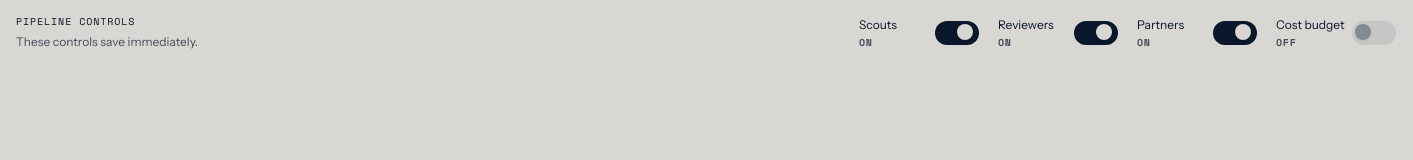
it: OperationsStrip › rolls back and releases a control when the request rejects
The width and height of the screenshot is (1413, 160).
Click the switch named "scouts" at [957, 33], box [935,11,979,55]
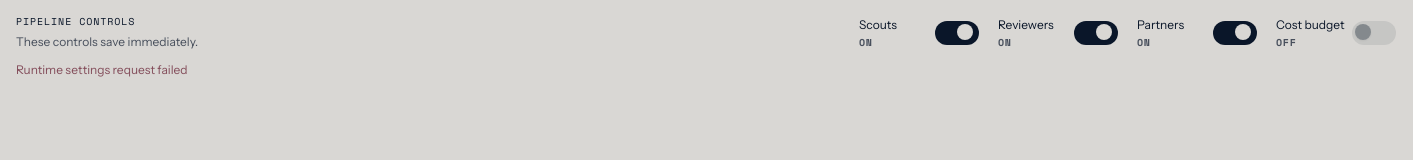
Check: the message reads "Runtime settings request failed", box [16,62,188,77]
